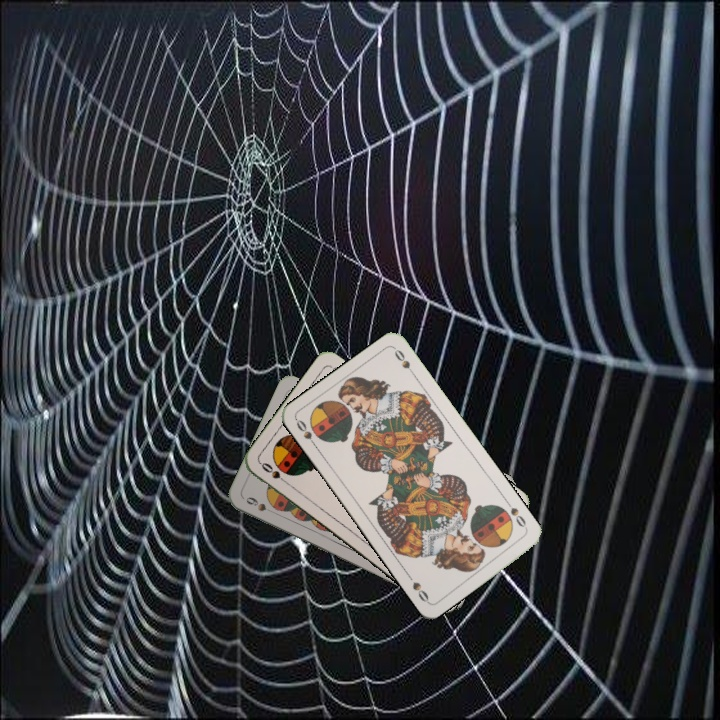S9: (242, 493, 279, 517)
SO: (257, 458, 292, 488), (292, 416, 321, 451), (506, 503, 530, 533)
